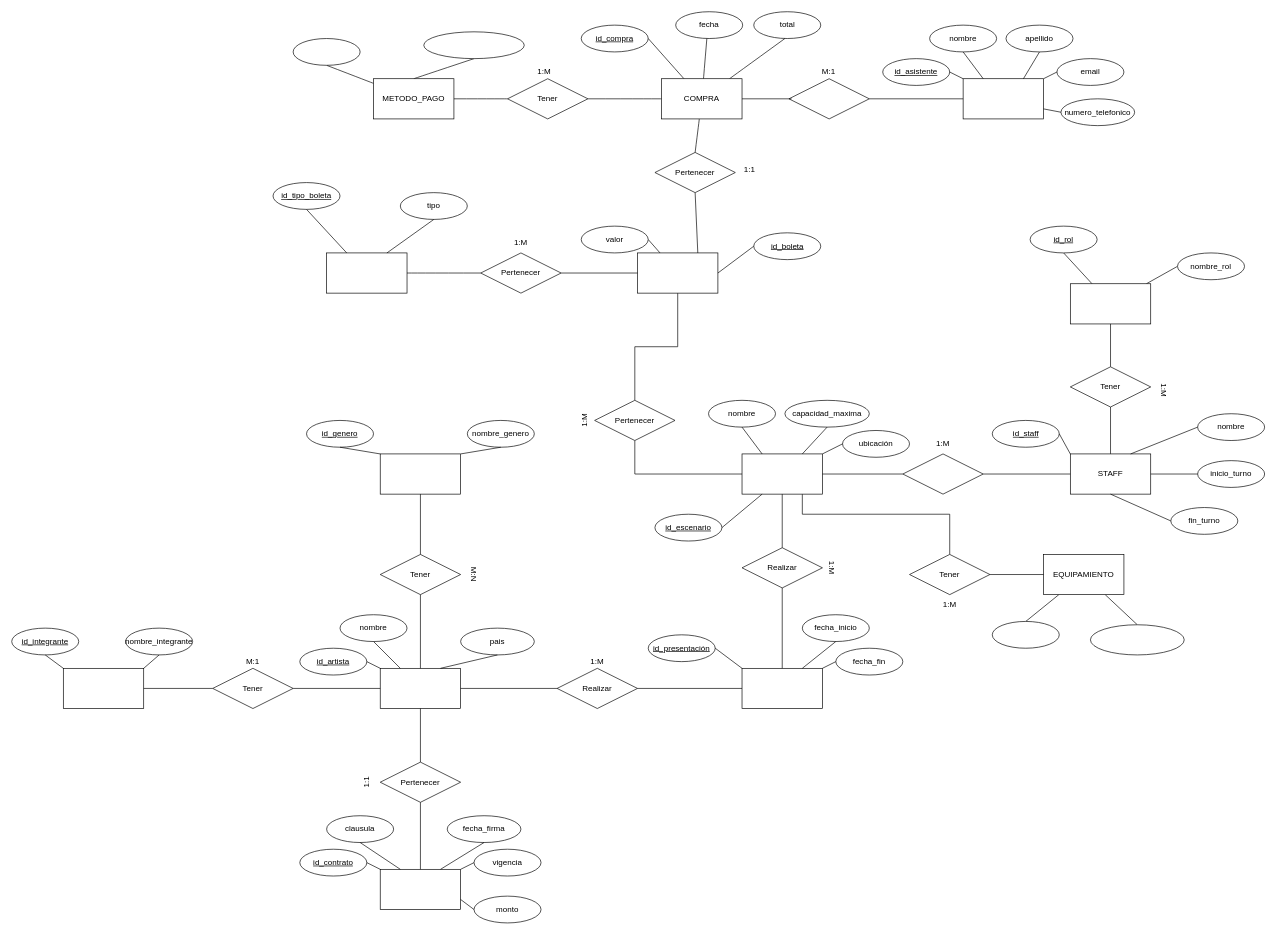
Some shapes in this 1276 by 935 pixel diagram are drawn without their labels. Here are the shapes that lost their labels. From the top down, the box of each, then its label:
(292, 38, 360, 65): id_metodo_pago
(423, 31, 524, 59): nombre_metodo_pago
(788, 78, 869, 119): Hacer
(962, 78, 1044, 119): ASISTENTE
(326, 252, 407, 293): TIPO_BOLETA
(637, 252, 718, 293): BOLETA
(1070, 283, 1151, 324): ROL
(380, 453, 461, 494): GENERO
(741, 453, 822, 494): ESCENARIO
(902, 453, 983, 494): Trabajar
(992, 621, 1059, 648): id_equipamiento
(1090, 624, 1184, 655): nombre_equipamiento
(63, 668, 144, 709): INTEGRANTE
(380, 668, 461, 709): ARTISTA
(741, 668, 822, 709): PRESENTACIÓN
(380, 869, 461, 910): CONTRATO
